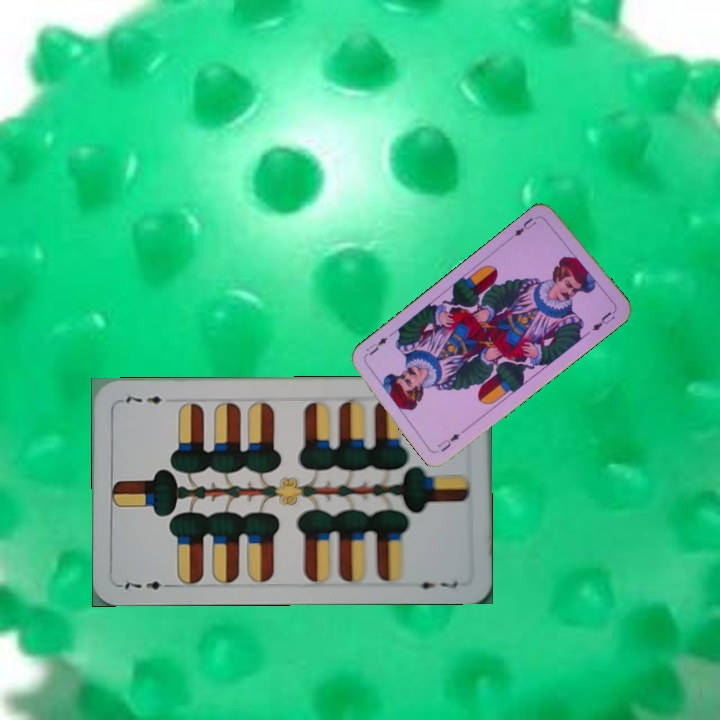E7: (117, 575, 176, 592)
EU: (507, 212, 542, 241), (433, 429, 462, 455)
